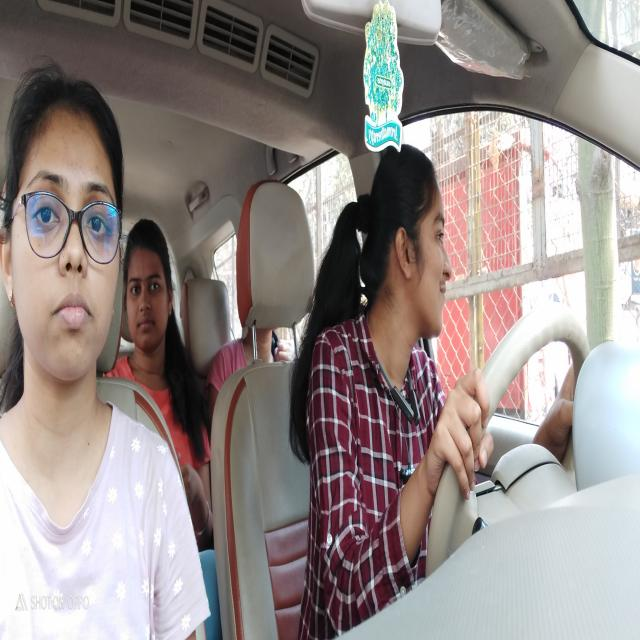LeftRight: (359, 140, 458, 360)
person: (7, 58, 125, 396), (122, 218, 175, 346)
